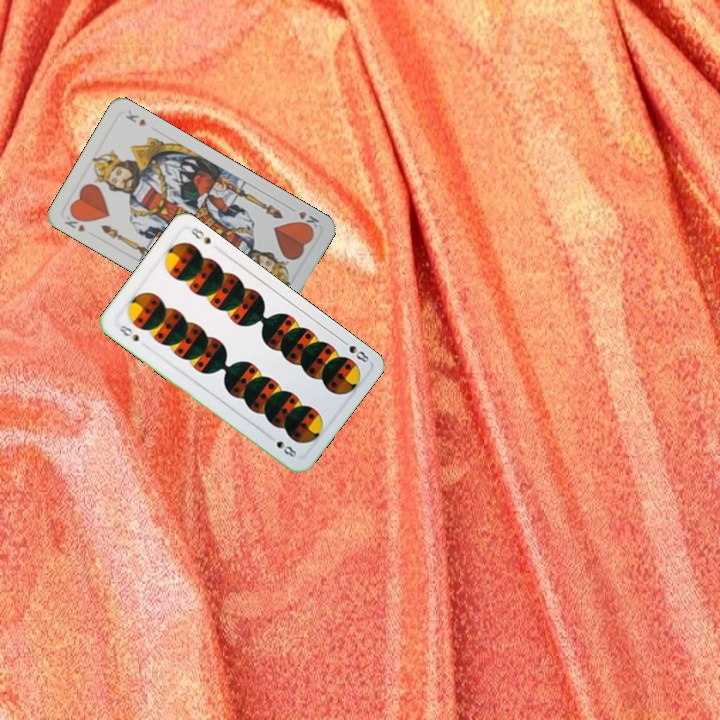HK: (293, 207, 322, 234), (60, 209, 89, 235)
S8: (336, 335, 371, 365), (112, 321, 142, 344)
